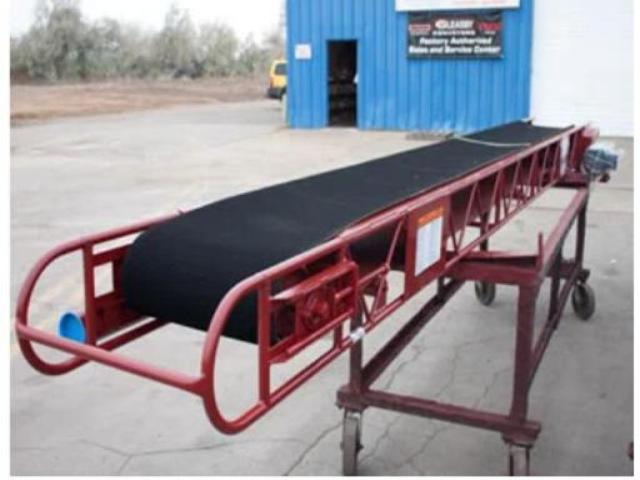conveyor: (14, 117, 618, 456)
